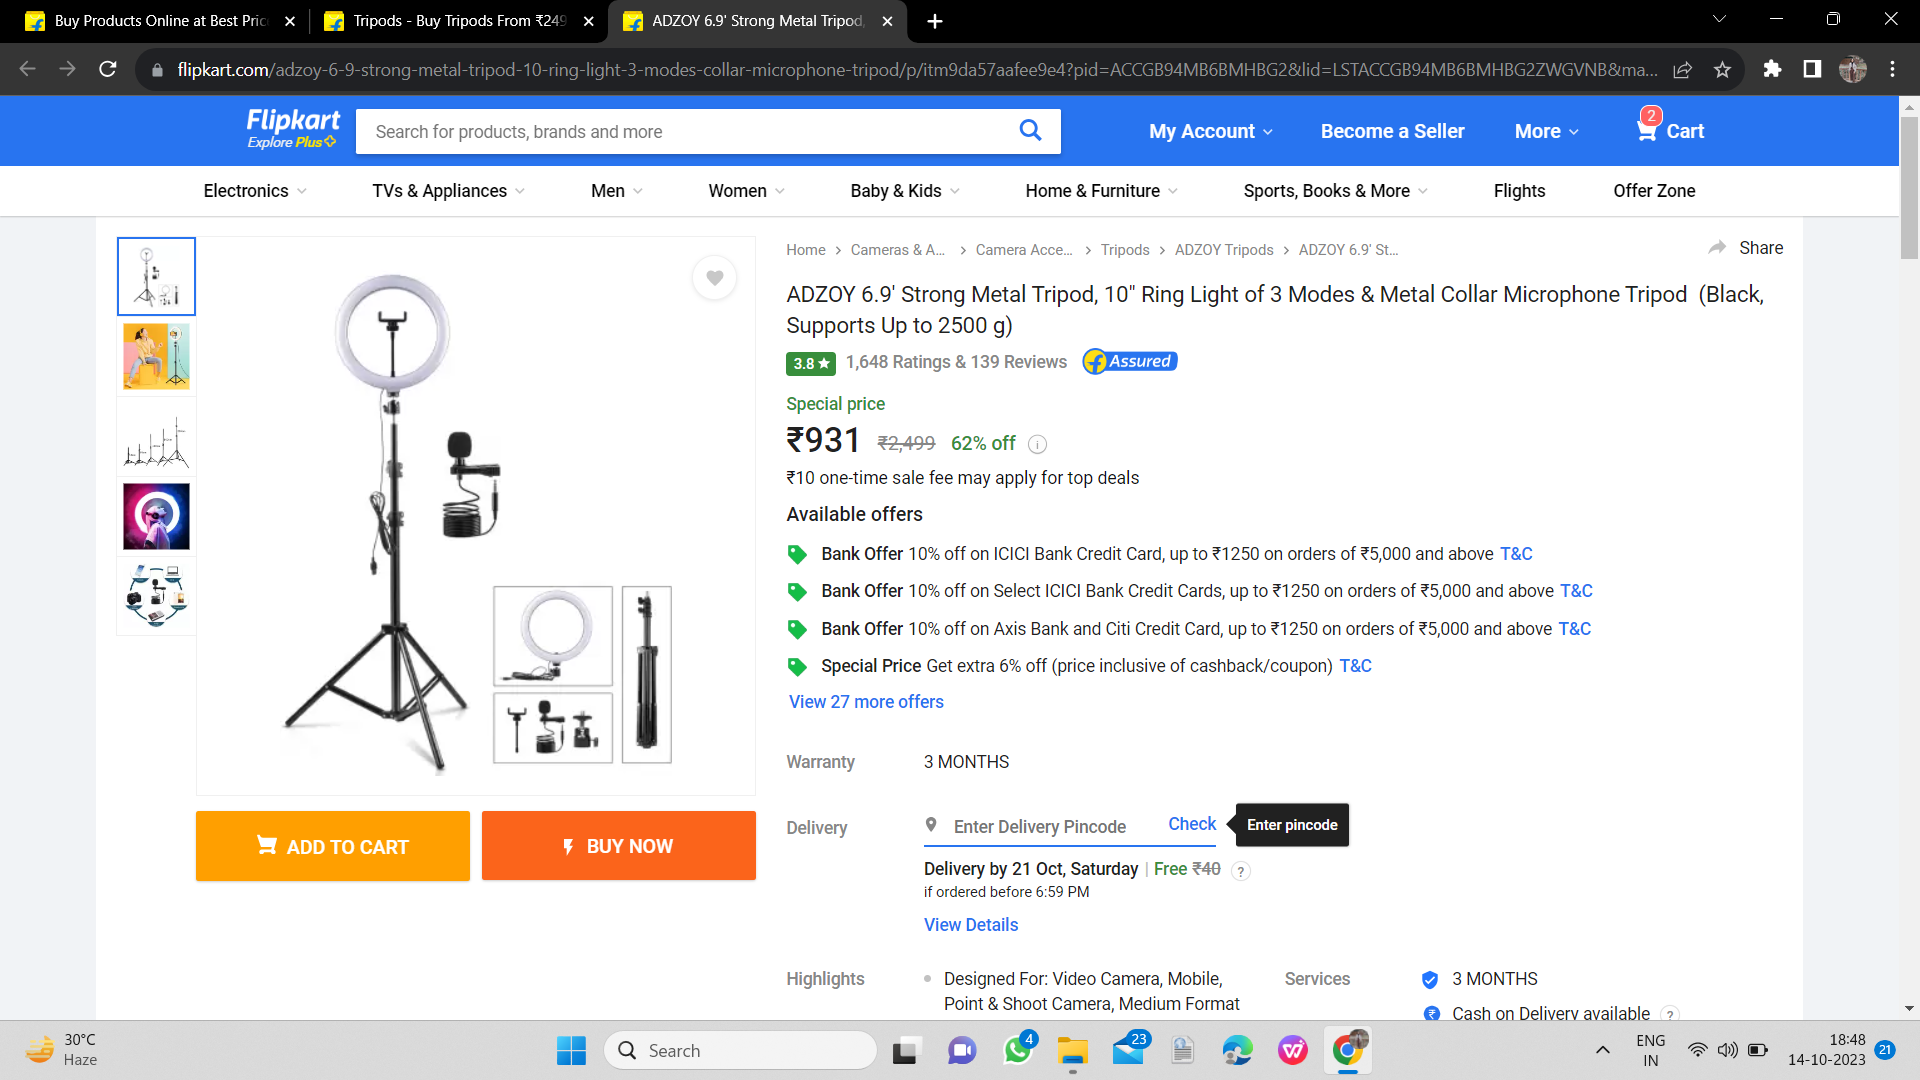Image: (227, 252, 749, 787), (348, 105, 1089, 160)
Paragraph: (783, 537, 1609, 716), (772, 807, 1355, 941), (781, 280, 1773, 341), (186, 809, 759, 884), (781, 393, 1146, 485), (1128, 108, 1713, 153), (769, 965, 1241, 1010), (1284, 963, 1655, 1019), (774, 349, 1197, 378), (777, 733, 1020, 779), (777, 500, 925, 522)
